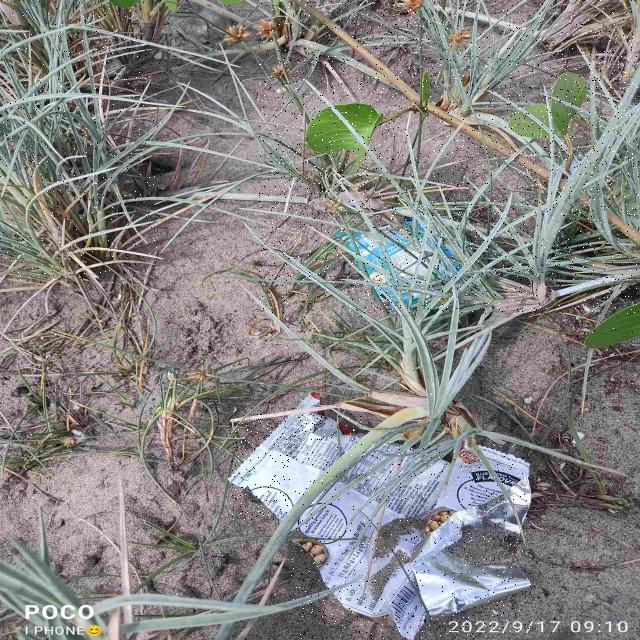biowaste: (259, 0, 640, 314), (0, 0, 161, 283), (416, 0, 557, 119), (304, 101, 380, 153), (588, 304, 639, 346)
paper: (292, 443, 531, 639), (229, 414, 363, 520)
wrapper: (337, 220, 460, 307)
